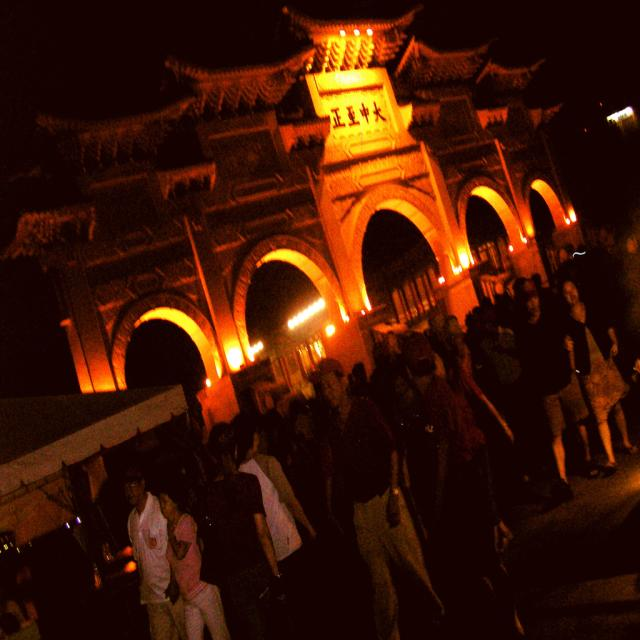no_fire: (75, 44, 634, 325)
